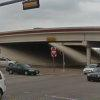Bridge: (3, 22, 98, 55)
